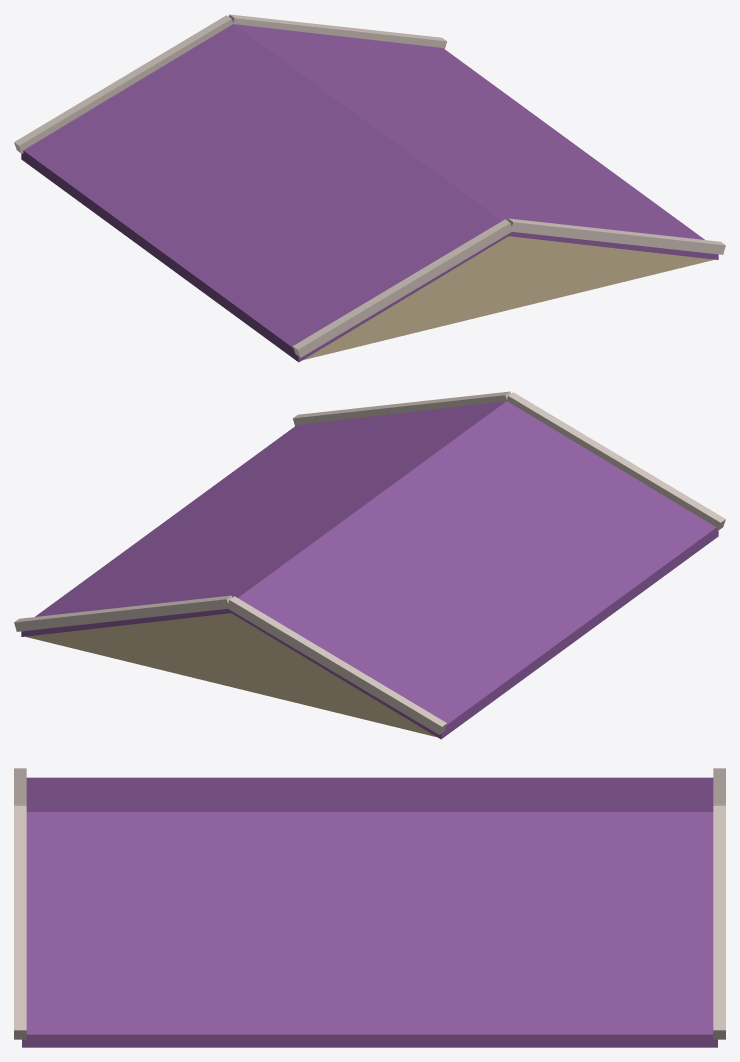
The model's file is Candyland_SweetShopRoof_Simple.glb.
3 views of the same model, one above another, from view 1: azimuth 30°, elevation 25°; view 2: azimuth 150°, elevation 25°; view 3: azimuth 270°, elevation 25° (orthographic). The views are drawn at different scales.
Parts seen in each view (by area): view 1: Candyland_SweetShopRoof_Simple; view 2: Candyland_SweetShopRoof_Simple; view 3: Candyland_SweetShopRoof_Simple.
Part boxes in pixels (x1,y1,x2,y2): Candyland_SweetShopRoof_Simple: [14, 14, 725, 362]; Candyland_SweetShopRoof_Simple: [14, 391, 725, 739]; Candyland_SweetShopRoof_Simple: [14, 768, 725, 1047].
Size of the model in its own units: 7.75 by 1.58 by 8.9.
